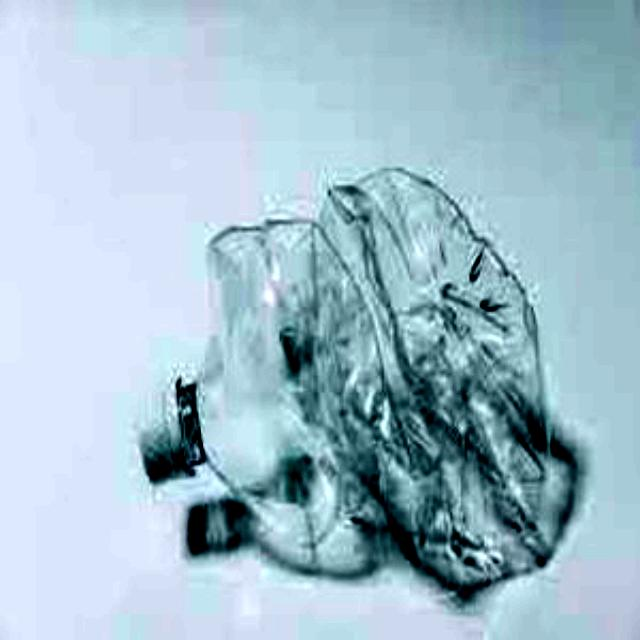Plastic: (125, 176, 590, 620)
